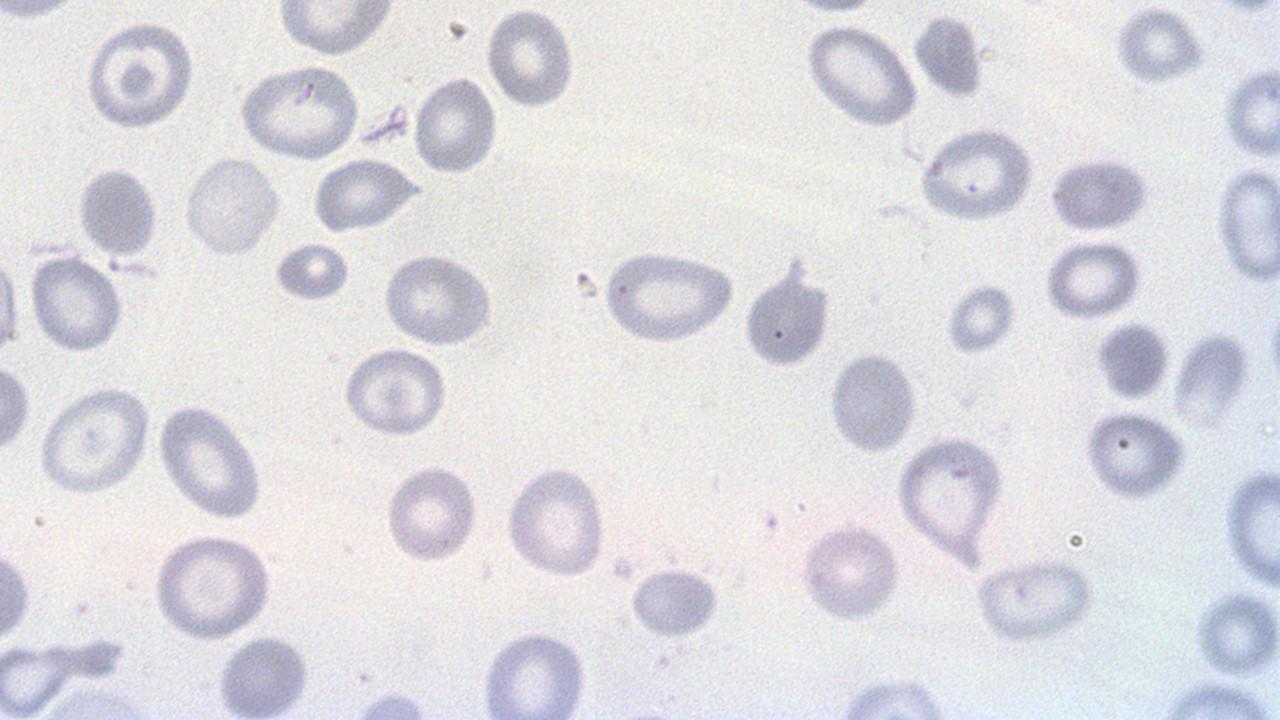Platelets: (971, 559, 1101, 646), (1044, 148, 1158, 233), (1109, 6, 1209, 89), (624, 566, 728, 640), (912, 10, 990, 103), (1093, 316, 1171, 403), (942, 280, 1022, 356), (1221, 63, 1279, 161), (68, 632, 130, 682), (356, 104, 410, 147), (794, 0, 878, 18)
RBC: (0, 0, 327, 289), (49, 0, 220, 205), (892, 430, 1008, 564), (148, 530, 277, 643), (598, 244, 737, 346), (154, 400, 268, 521), (35, 383, 154, 497), (81, 18, 198, 133), (500, 460, 610, 580), (801, 21, 922, 129), (235, 61, 363, 162), (378, 250, 499, 350), (916, 126, 1038, 224), (972, 555, 1100, 645), (475, 622, 592, 720), (795, 519, 904, 623), (178, 154, 284, 260), (1078, 407, 1192, 503), (338, 344, 449, 440), (824, 349, 922, 457), (738, 263, 835, 371), (382, 460, 482, 564), (27, 252, 126, 354), (482, 5, 578, 110), (411, 72, 500, 177), (214, 629, 316, 719), (1041, 238, 1149, 322), (1169, 327, 1251, 431), (1108, 5, 1210, 88), (308, 156, 413, 233), (75, 164, 160, 257), (1215, 164, 1279, 287), (626, 564, 721, 642), (1223, 462, 1279, 590), (274, 0, 394, 59), (941, 278, 1021, 357), (1222, 62, 1280, 161), (269, 241, 351, 303), (0, 533, 34, 651), (0, 354, 34, 454), (0, 244, 23, 358)
WBC: (688, 0, 1280, 720), (892, 430, 1010, 564), (378, 251, 502, 351), (740, 256, 837, 377), (920, 127, 1038, 226), (475, 624, 597, 718), (828, 344, 926, 460), (1170, 324, 1252, 434), (1050, 150, 1160, 230), (910, 7, 988, 104), (0, 534, 40, 654)
